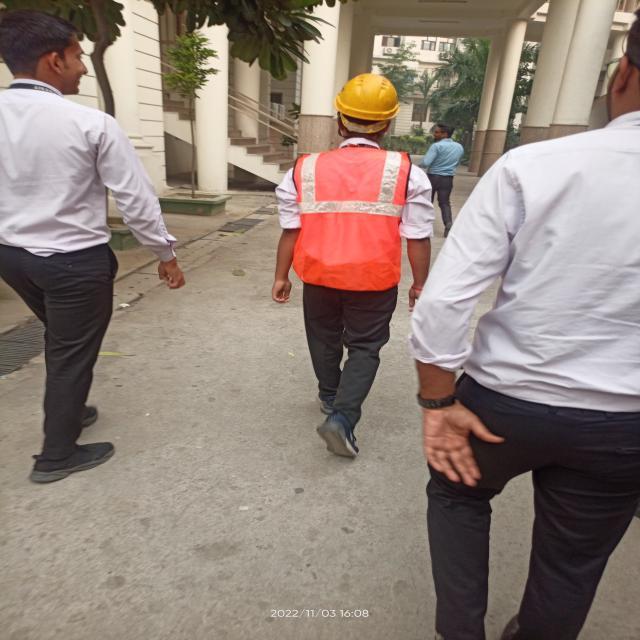safe: (257, 71, 422, 458)
unsafe: (0, 18, 187, 476)
